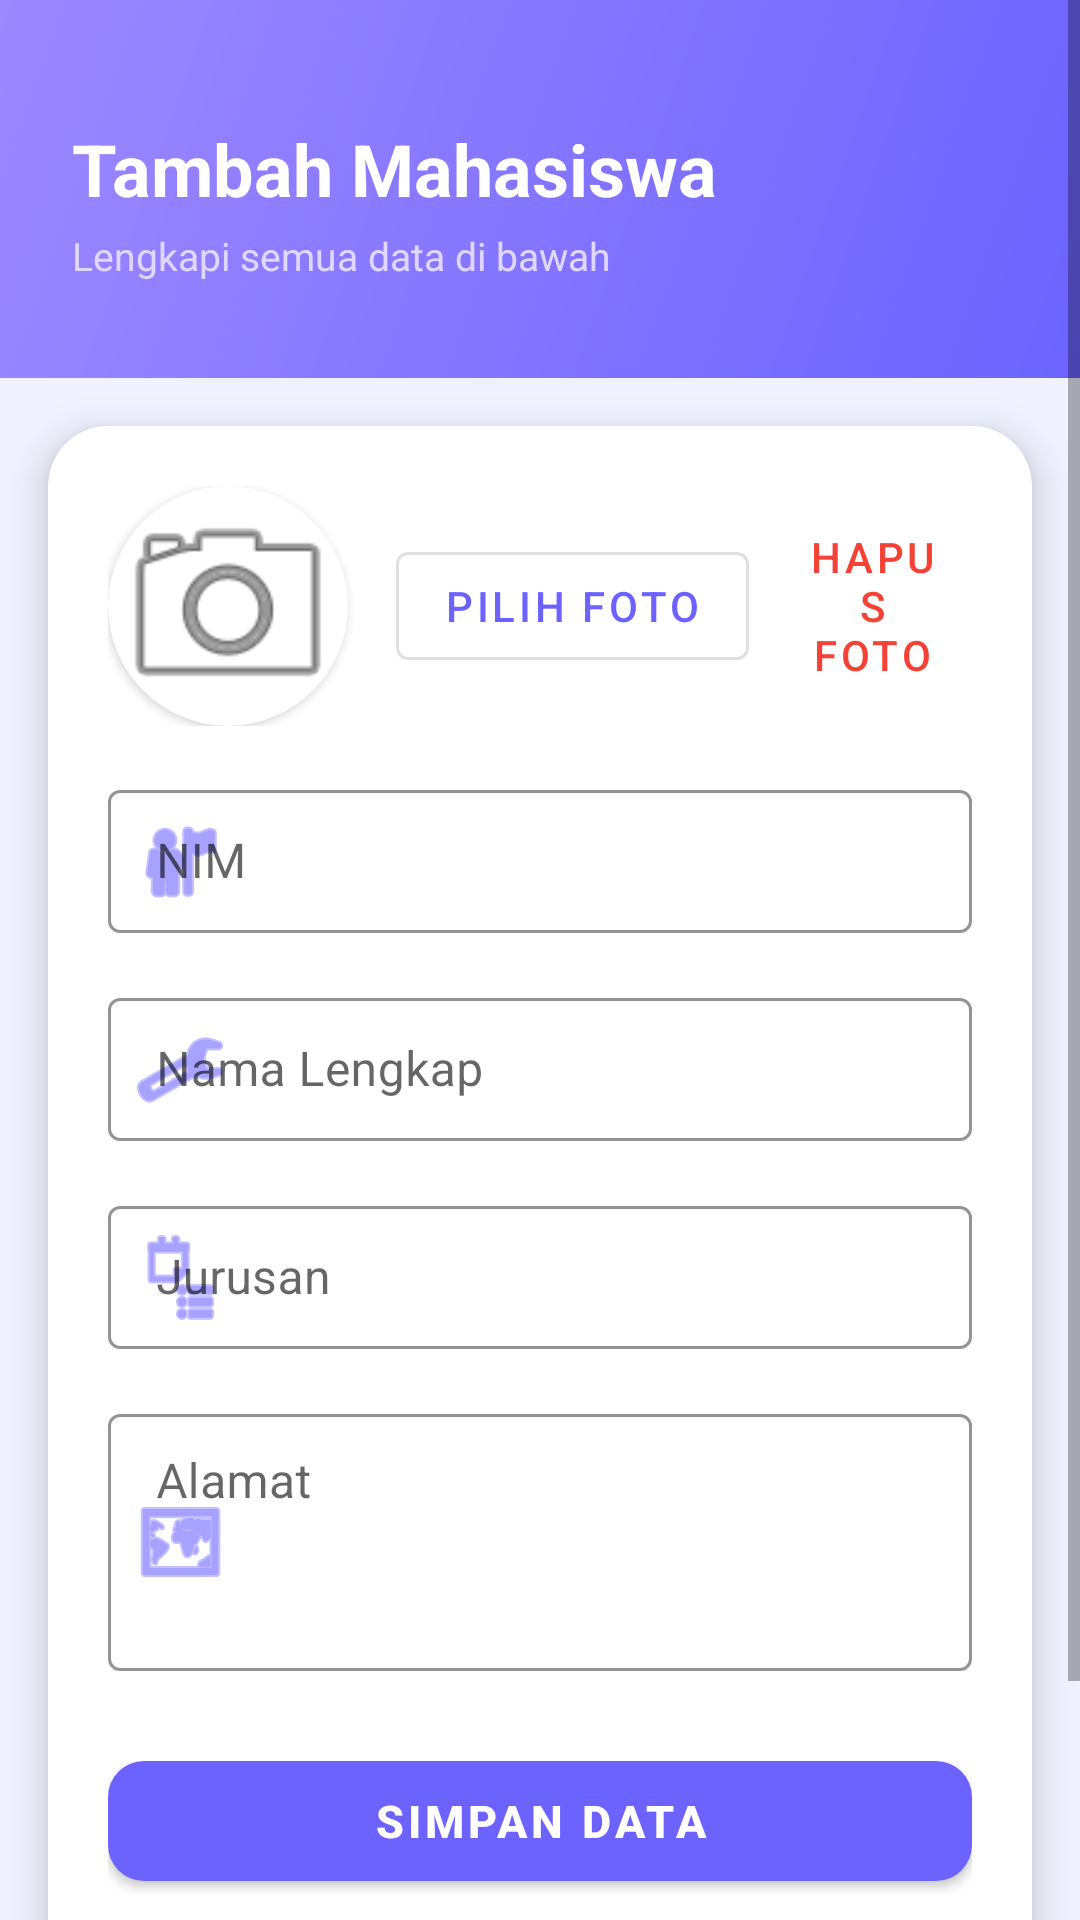

Icons on this 1080×1920 Android screen, each with its box as {"x1": x1, "y1": y1, "x2": x2, "y2": y2}:
camera: {"x1": 108, "y1": 528, "x2": 321, "y2": 726}
